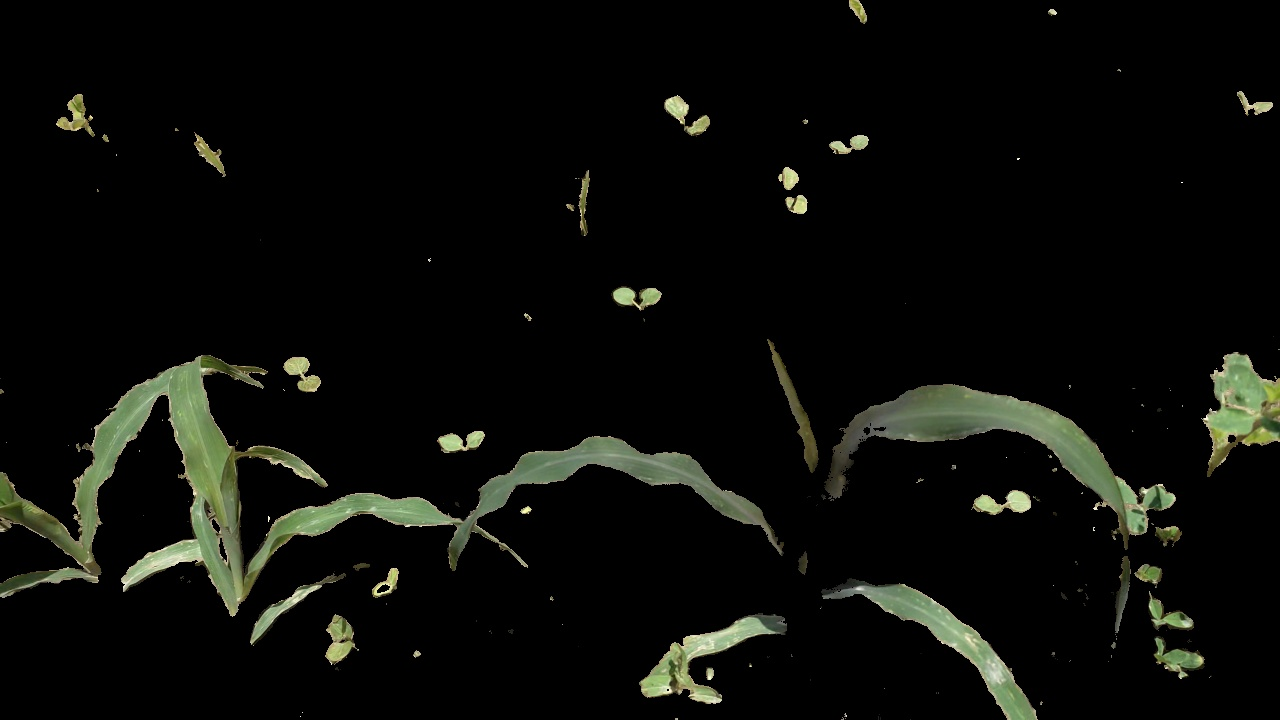crop: (447, 354, 1144, 716), (135, 358, 388, 627), (1, 378, 118, 600)
weed: (1197, 342, 1280, 518), (650, 81, 724, 146), (1112, 471, 1177, 537), (56, 83, 121, 146), (776, 158, 828, 233), (976, 485, 1041, 522), (1145, 582, 1194, 626), (1142, 641, 1205, 674), (318, 612, 360, 660), (283, 351, 326, 395), (612, 280, 664, 312), (427, 431, 488, 458), (368, 567, 410, 605), (828, 126, 873, 157)
